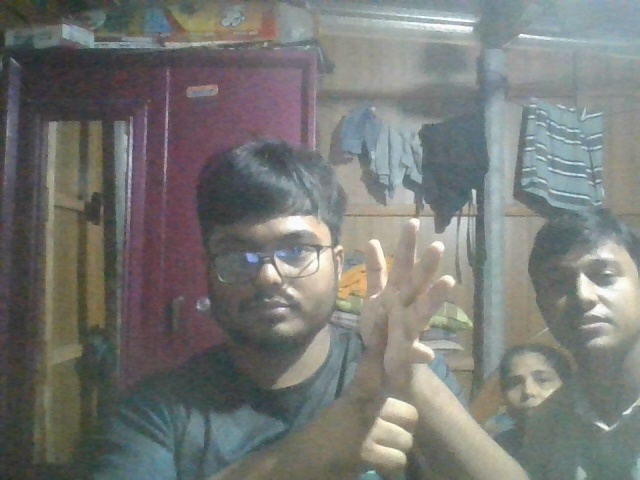o: (312, 220, 489, 480)
